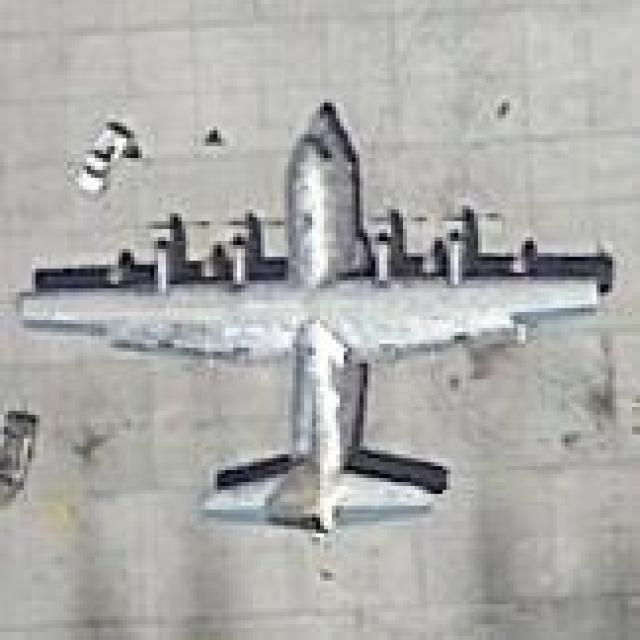C-130_TopDown: (13, 96, 619, 544)
